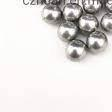ironball: (63, 37, 88, 62), (54, 19, 82, 41), (41, 4, 62, 24), (79, 0, 105, 15), (88, 33, 106, 54), (79, 13, 97, 33), (63, 3, 82, 19), (99, 12, 111, 33)
